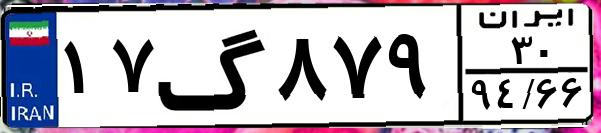0: (537, 27, 568, 80)
1: (57, 26, 110, 100)
3: (508, 27, 537, 80)
4: (495, 70, 520, 125)
6: (560, 70, 590, 125), (535, 70, 560, 125)
7: (330, 28, 385, 110), (110, 28, 156, 98)
8: (270, 28, 330, 110)
9: (385, 28, 445, 110), (470, 70, 495, 125)
گ: (156, 12, 270, 120)
